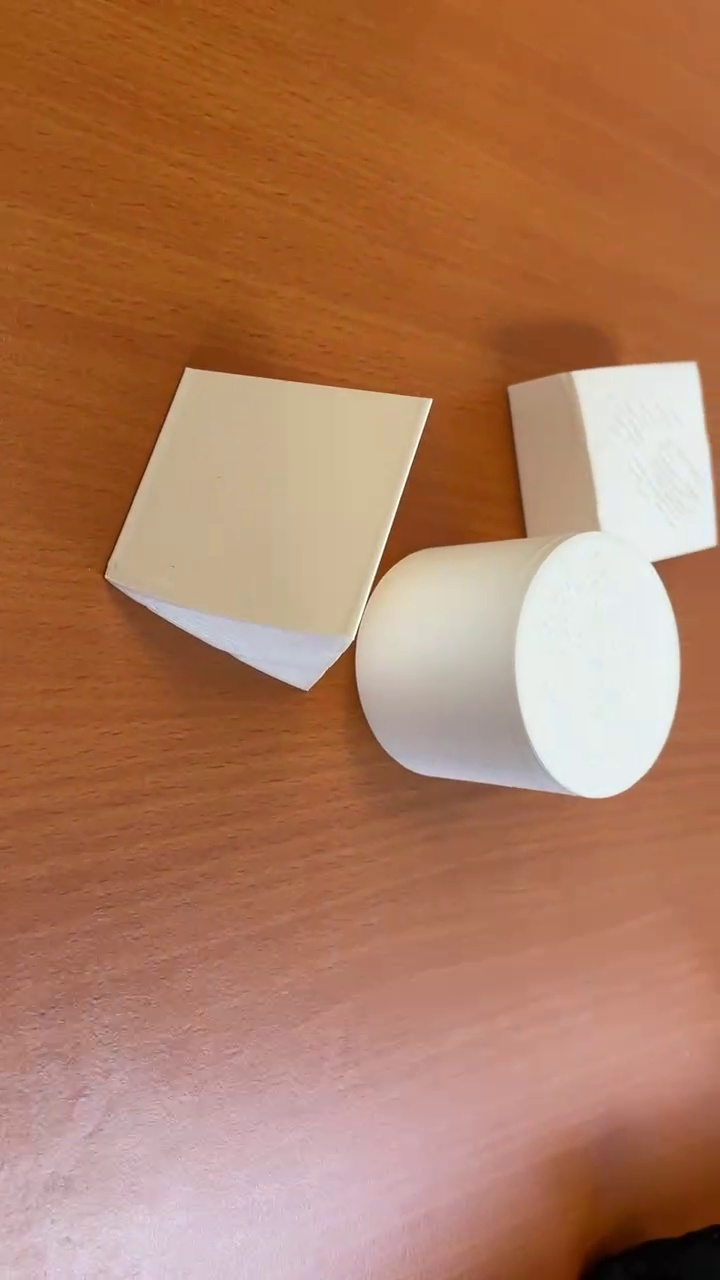Cube_short: (498, 355, 716, 561)
Cylinder: (354, 531, 681, 802)
Triangle: (96, 361, 434, 694)
